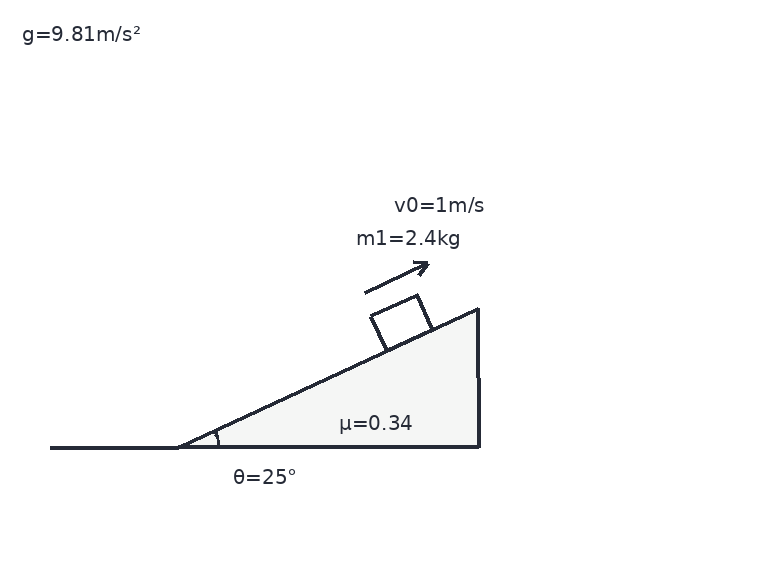block: (368, 293, 434, 352)
ramp: (176, 305, 480, 449)
